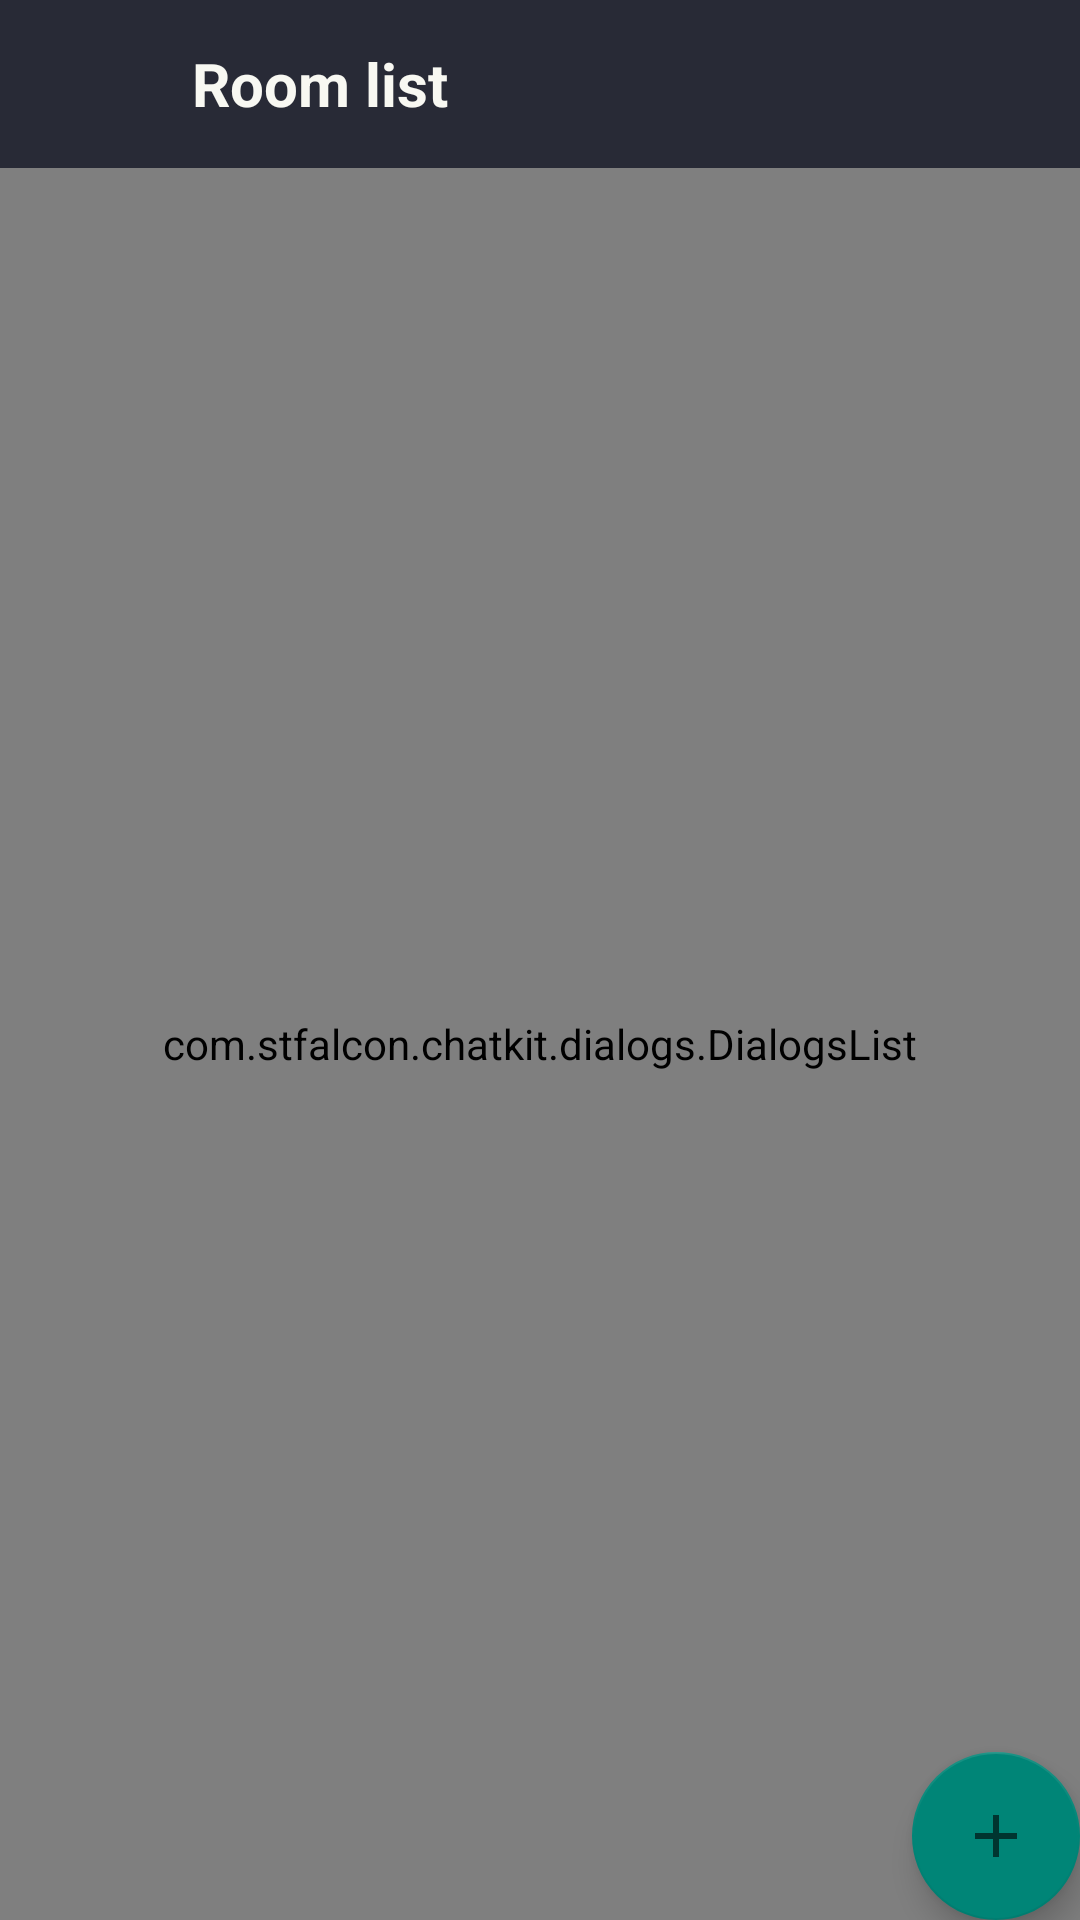

Screen size 1080*1920. Icon name, then its box in pixels as bbox(x1, y1, x2, y2):
addbutton: bbox(912, 1752, 1080, 1920)
